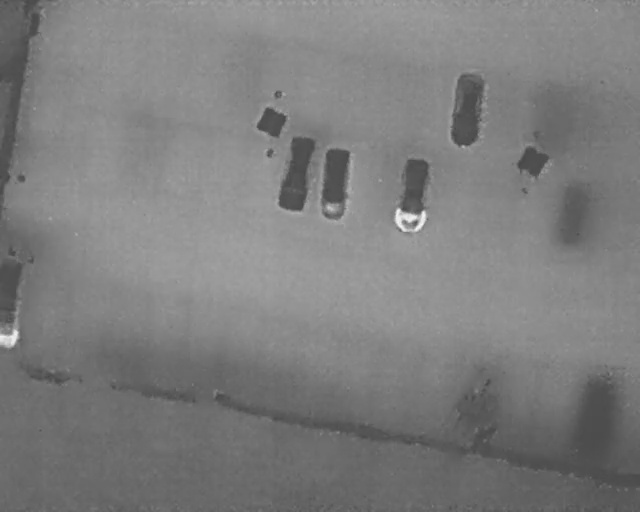Car: (390, 155, 435, 235), (274, 134, 318, 213), (448, 70, 486, 147), (319, 146, 353, 220), (0, 258, 23, 348)
